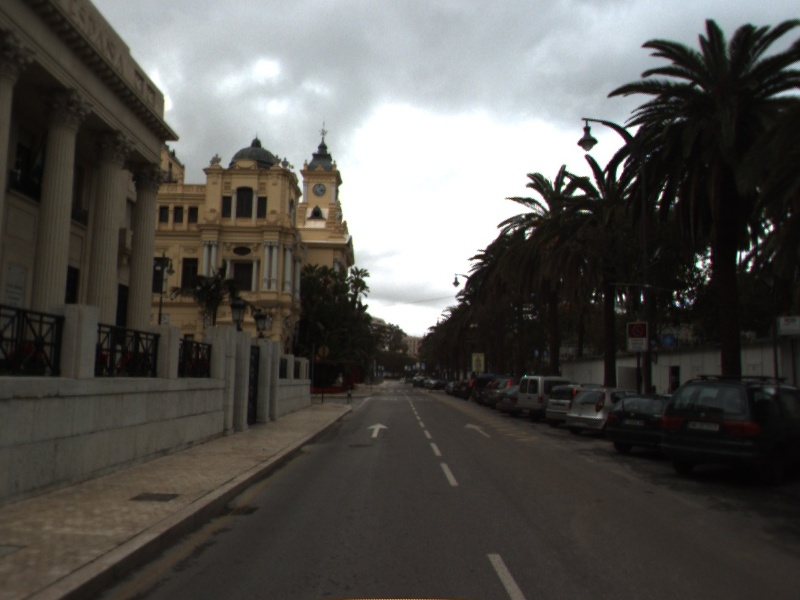STRAIGHT: (463, 422, 494, 439), (366, 422, 391, 440)
